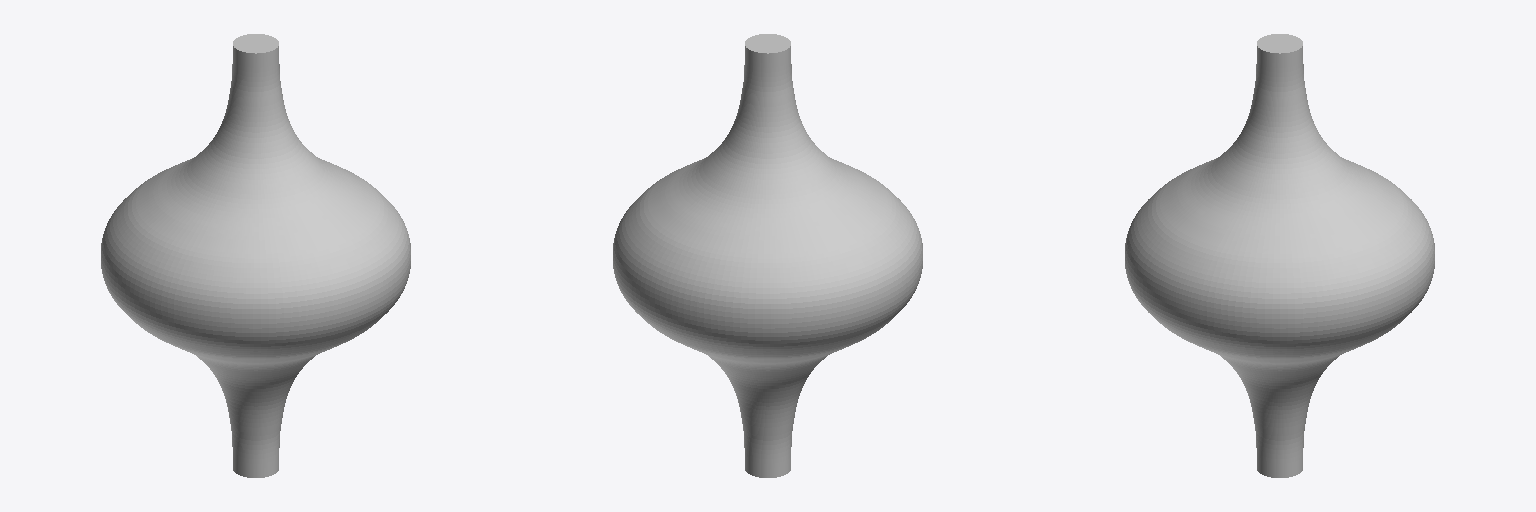
File: drop04.obj
3 views of the same model, side by side, from view 1: azimuth 30°, elevation 25°; view 2: azimuth 150°, elevation 25°; view 3: azimuth 270°, elevation 25° (orthographic).
Parts seen in each view (by area): view 1: 190708_Ether_100type_drop4; view 2: 190708_Ether_100type_drop4; view 3: 190708_Ether_100type_drop4.
Part boxes in pixels (left/top/right/bottom): 190708_Ether_100type_drop4: left=101, top=34, right=410, bottom=477; 190708_Ether_100type_drop4: left=613, top=34, right=922, bottom=477; 190708_Ether_100type_drop4: left=1125, top=34, right=1434, bottom=477.
Size of the model in its own units: 0.6635 by 1 by 0.6635.